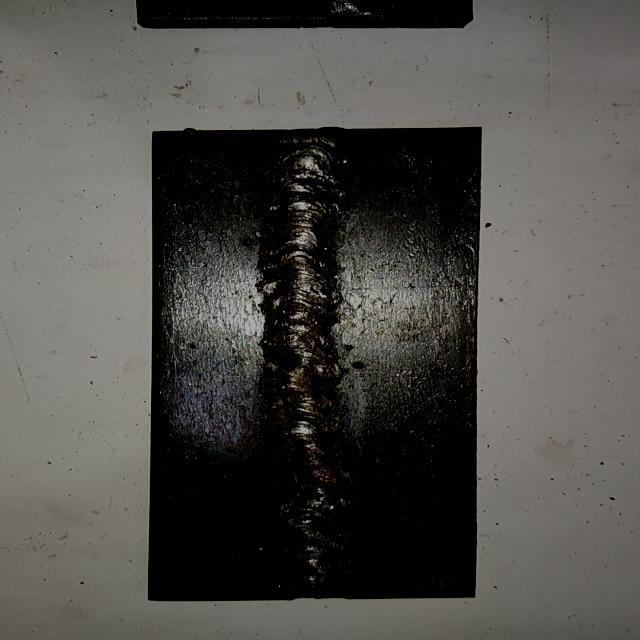Welding Line: (270, 132, 347, 590)
Workpiece: (148, 122, 486, 600)
